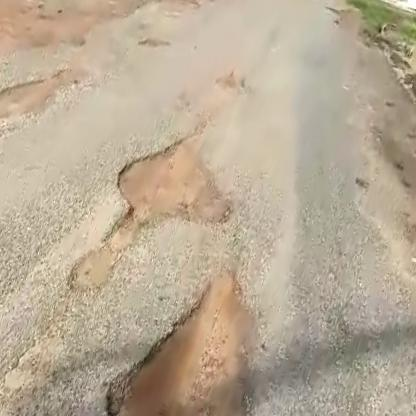pothole: (68, 241, 319, 416), (95, 117, 253, 253), (131, 28, 168, 55)
